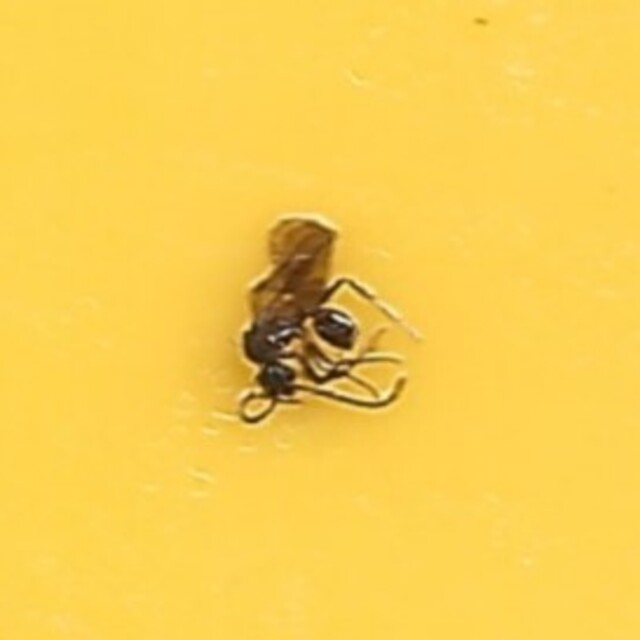Hymenoptera: (234, 215, 406, 425)
